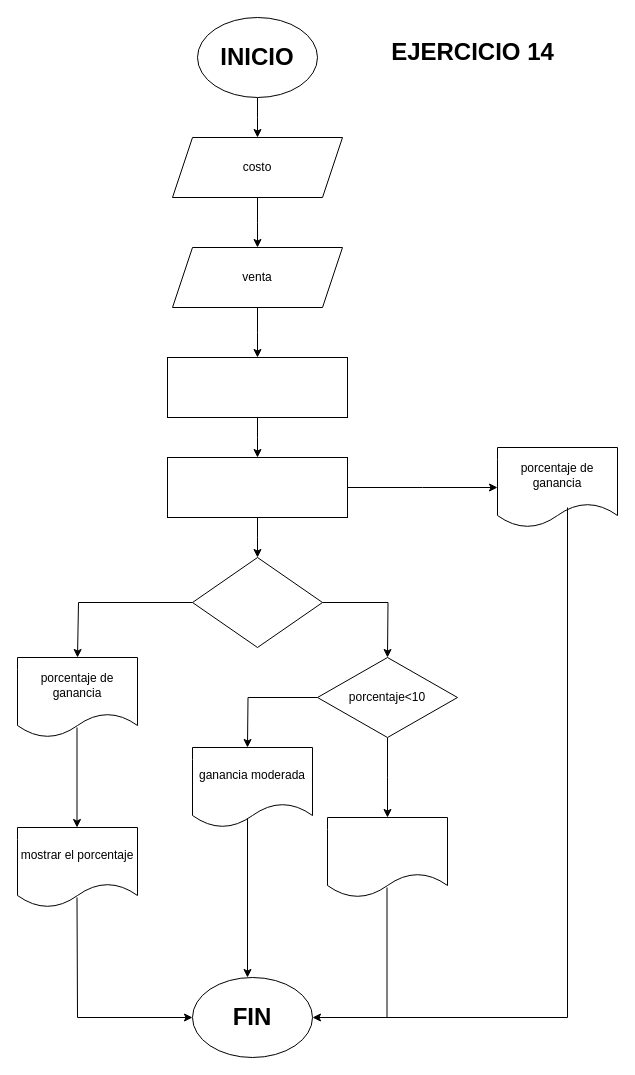
Some shapes in this 635 by 1075 pixel diagram are drawn without their labels. The centre of each missing label's shape, as x and y in pixels:
"ganancia=costo-venta" belongs at [257,387].
"muy baja ganancia" belongs at [387,857].
"porcentaje=(ganancia/costo)*100" belongs at [257,487].
"porcentaje>30" belongs at [257,602].
